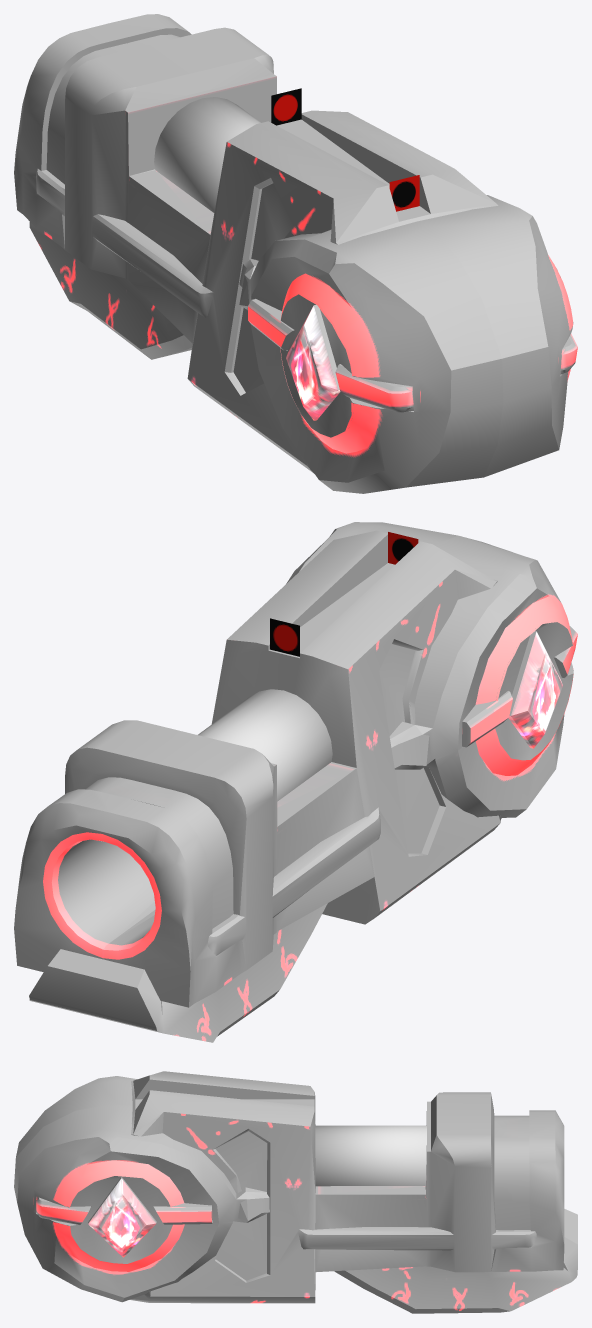
Rendered from Gun.fbx.
3 views of the same model, one above another, from view 1: azimuth 30°, elevation 25°; view 2: azimuth 150°, elevation 25°; view 3: azimuth 270°, elevation 25° (orthographic). The views are drawn at different scales.
Parts seen in each view (by area): view 1: Cube, Cylinder, Plane.001, Plane; view 2: Cube, Cylinder, Plane.001, Plane; view 3: Cube, Cylinder.
Part boxes in pixels (x1=…): Cube: x1=14, y1=14, x2=577, y2=493; Cylinder: x1=154, y1=97, x2=261, y2=212; Plane.001: x1=271, y1=88, x2=301, y2=125; Plane: x1=389, y1=175, x2=419, y2=211; Cube: x1=14, y1=522, x2=577, y2=1042; Cylinder: x1=198, y1=689, x2=332, y2=801; Plane.001: x1=270, y1=618, x2=299, y2=656; Plane: x1=388, y1=532, x2=418, y2=564; Cube: x1=14, y1=1071, x2=577, y2=1313; Cylinder: x1=315, y1=1125, x2=426, y2=1186.
Size of the model in its own units: 297 by 359 by 875.
